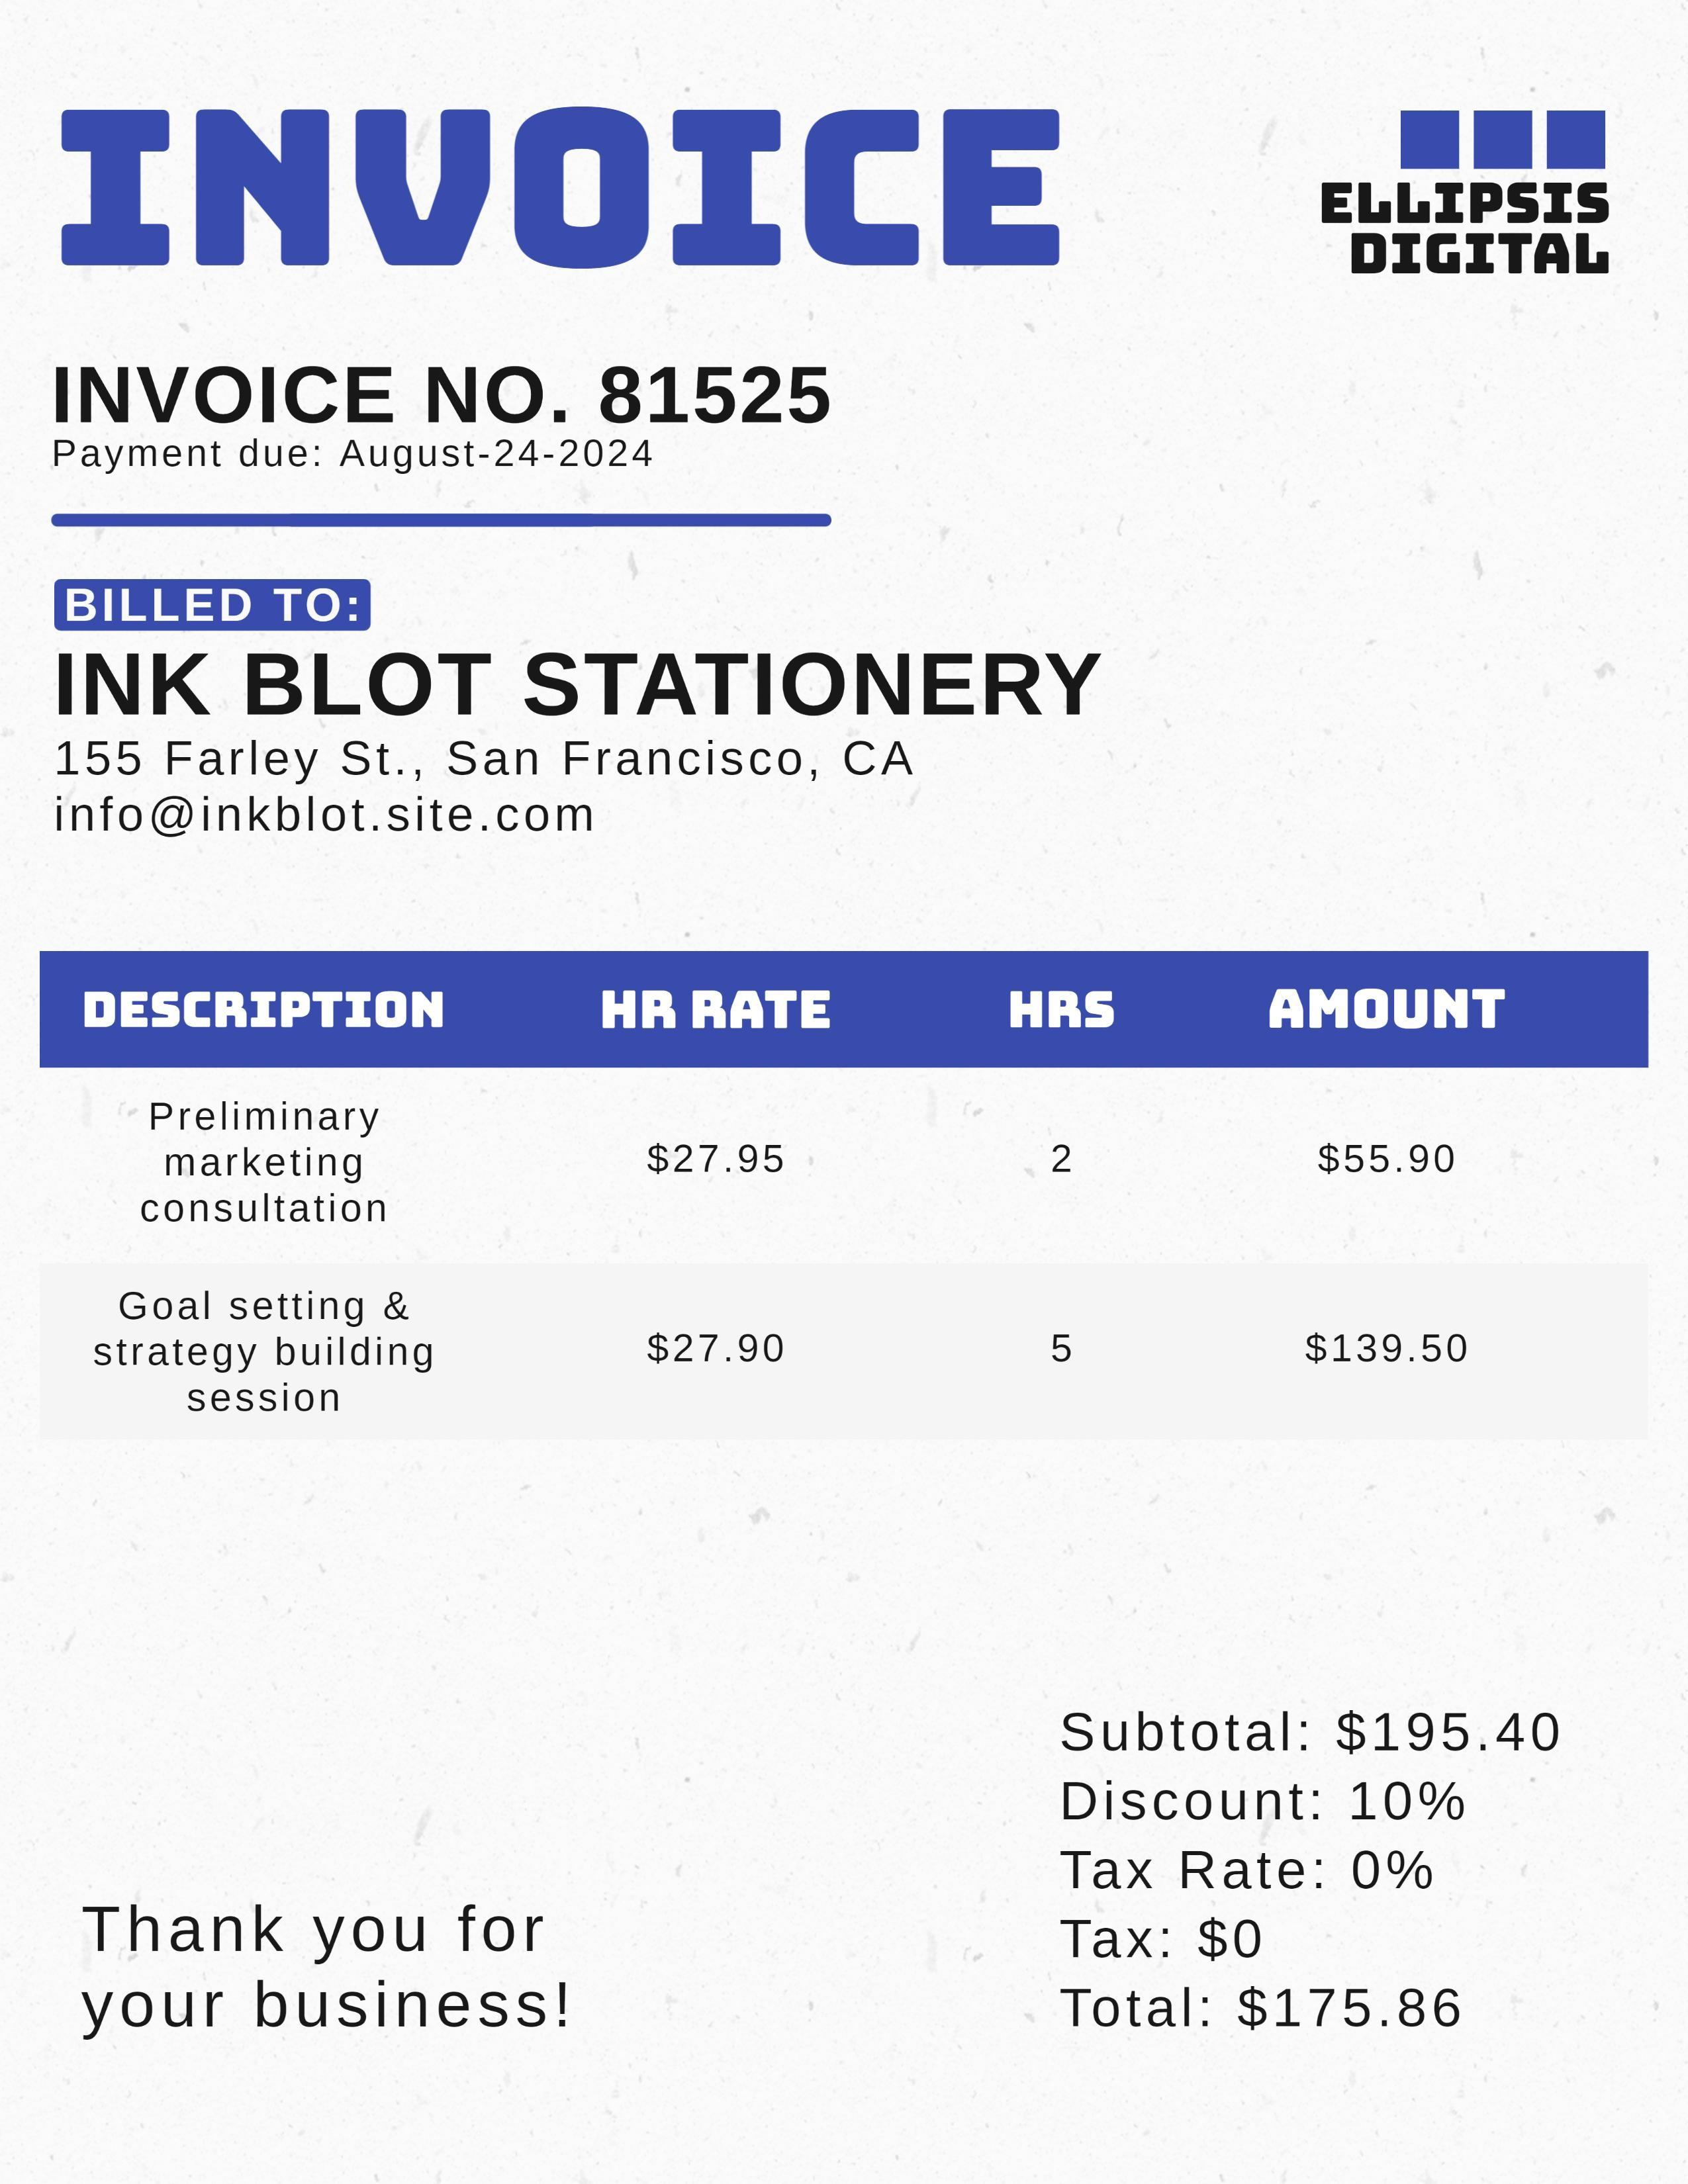ROI: (76, 959, 1536, 1427), (46, 569, 1106, 856), (1034, 1688, 1578, 2065), (41, 347, 839, 477), (1298, 165, 1647, 303)
